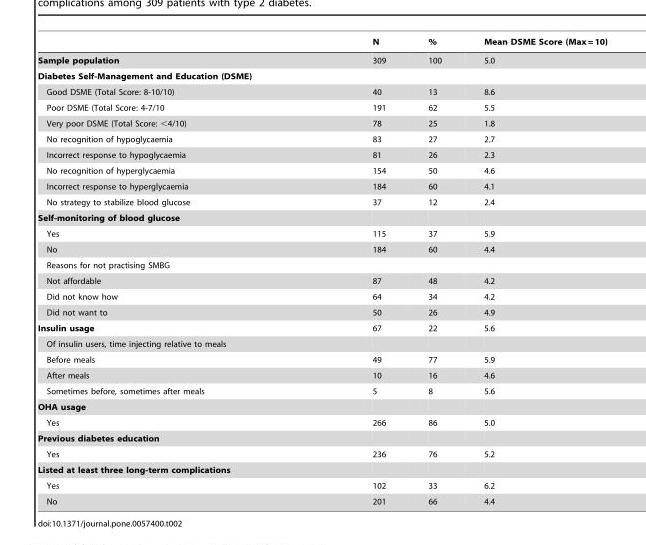table: (37, 37, 607, 505)
table column: (37, 37, 311, 505), (462, 37, 607, 505), (311, 37, 406, 505), (406, 37, 462, 505)
table column header: (37, 37, 607, 50)
table projected row header: (37, 209, 607, 225), (37, 335, 607, 351), (37, 398, 607, 414), (37, 430, 607, 446), (37, 461, 607, 477), (37, 68, 607, 83), (37, 257, 607, 272)
table row: (37, 50, 607, 68), (37, 83, 607, 99), (37, 99, 607, 115), (37, 115, 607, 131), (37, 146, 607, 162), (37, 162, 607, 178), (37, 178, 607, 194), (37, 209, 607, 225), (37, 225, 607, 241), (37, 241, 607, 257), (37, 272, 607, 288), (37, 288, 607, 304), (37, 304, 607, 320), (37, 335, 607, 351), (37, 351, 607, 367), (37, 367, 607, 383), (37, 398, 607, 414), (37, 414, 607, 430), (37, 430, 607, 446), (37, 461, 607, 477), (37, 477, 607, 493), (37, 68, 607, 83), (37, 131, 607, 146), (37, 194, 607, 209), (37, 257, 607, 272), (37, 320, 607, 335), (37, 383, 607, 398), (37, 446, 607, 461), (37, 37, 607, 50), (37, 493, 607, 505)
